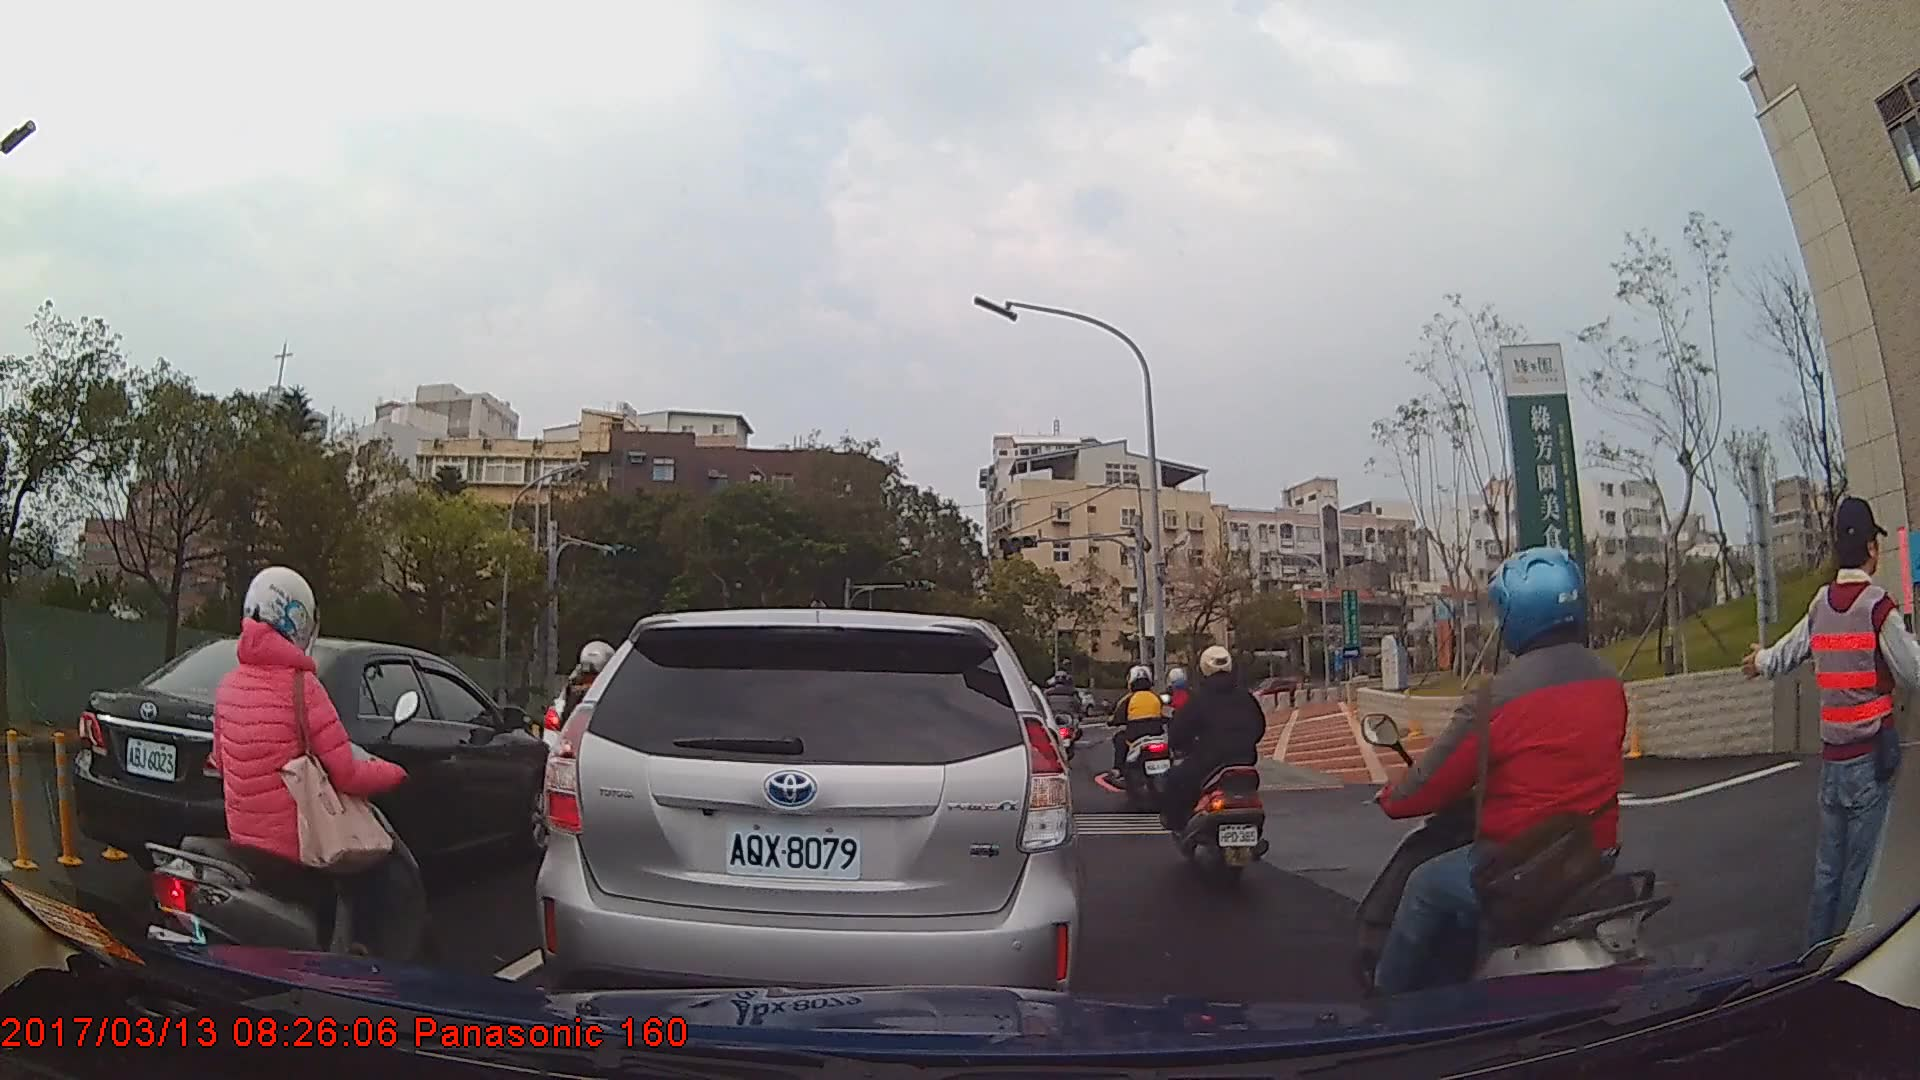pedestrian: (1743, 497, 1920, 979)
rider: (1349, 546, 1693, 1043), (144, 562, 441, 1033), (1158, 644, 1271, 892), (1108, 663, 1180, 817), (1042, 671, 1085, 764)
vehicle: (534, 608, 1084, 1024), (76, 635, 565, 916), (1244, 673, 1311, 710)
